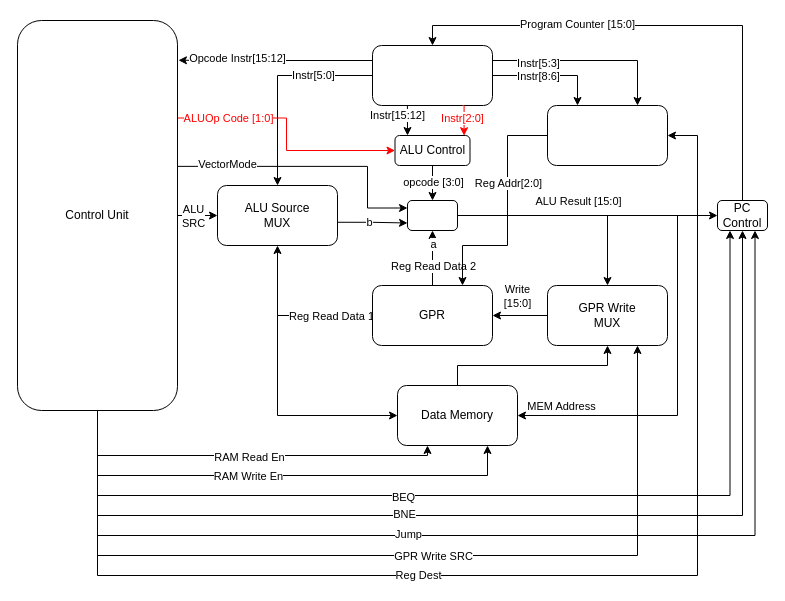
The diagram is 785 pixels wide and 601 high, and some of its shapes have lost their labels. Here are the shapes that lost their labels. From the top down, the centre of each, then its label:
At (x=432, y=75): "Instruction Memory".
At (x=607, y=135): "Reg Dest MUX".
At (x=432, y=215): "ALU".
